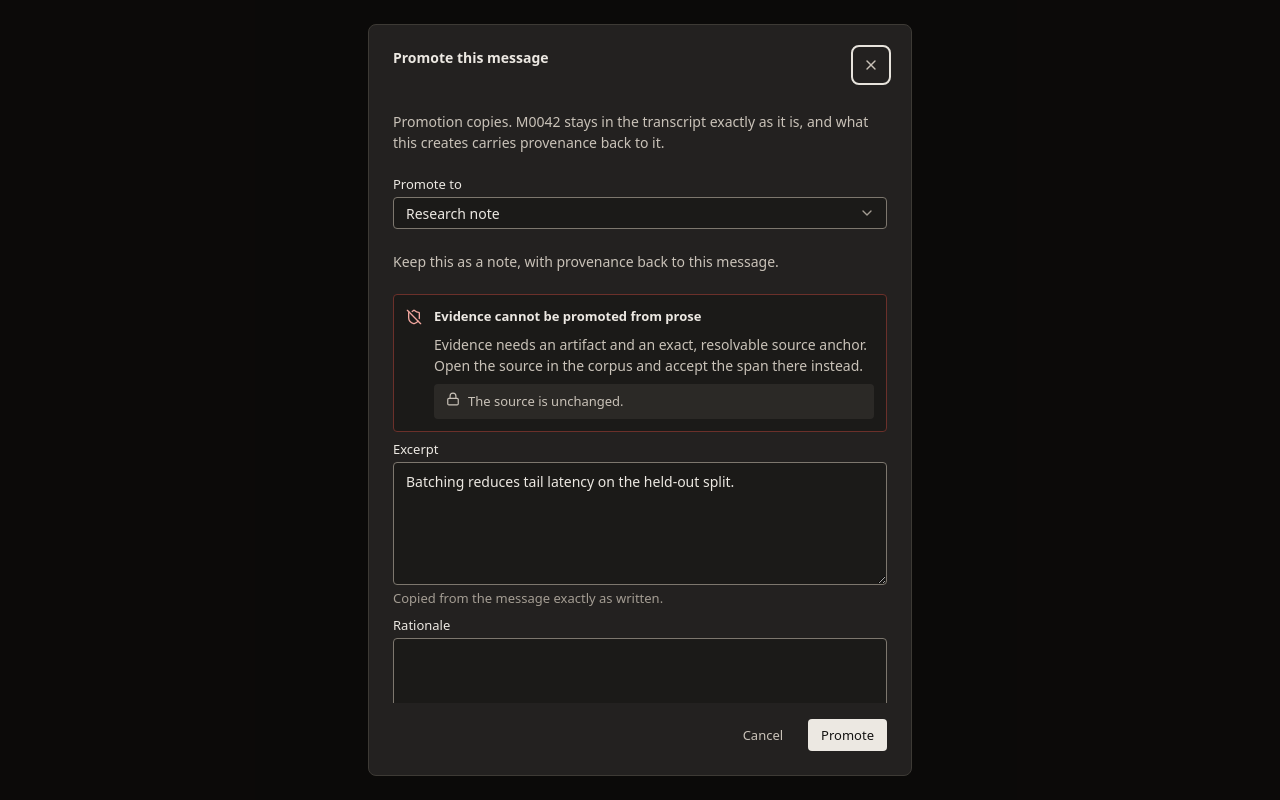
Test case: a refusal the researcher just caused › is announced assertively, because it is news about the press they made
Step 1. Click the button "Promote" → (848, 735), box [808, 719, 887, 751]
(page scrolled)
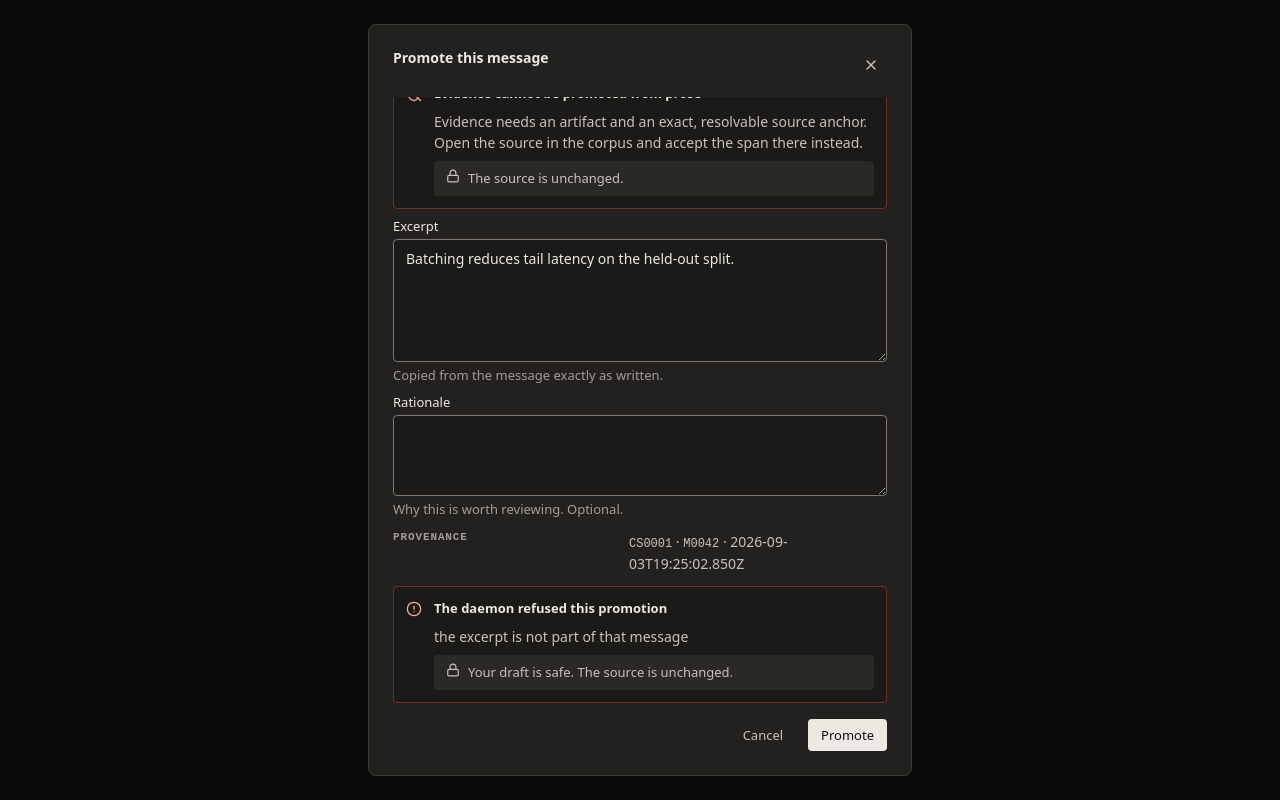
Result: the message that starts with "The daemon refused this promotion" is shown at [434, 599, 667, 617]
Result: the message that starts with "The daemon refused this promotion" shows "the excerpt is not part of that message" at [434, 627, 688, 646]
